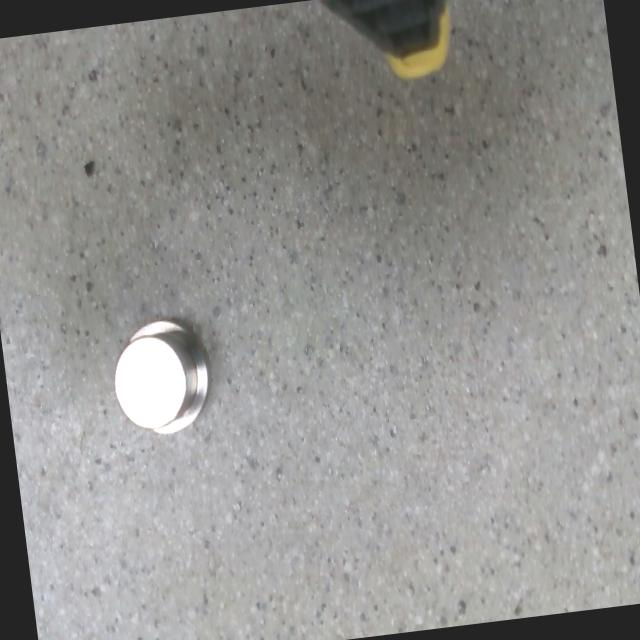sensor: (106, 314, 214, 436)
